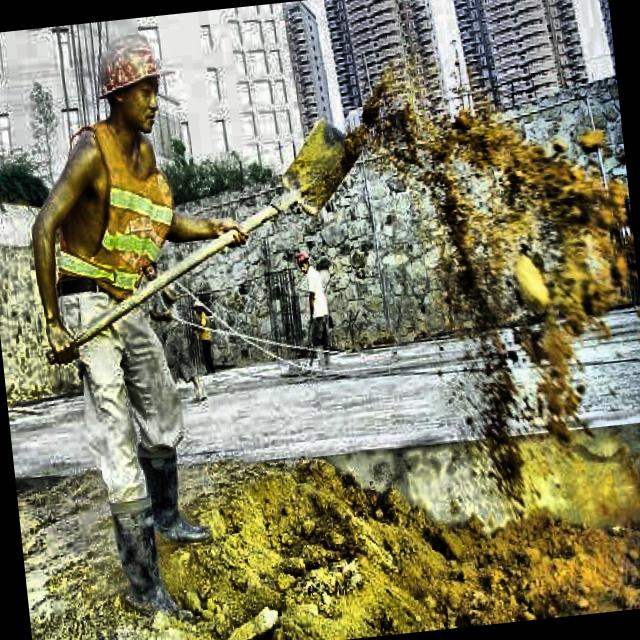helmet: (90, 29, 176, 141), (292, 248, 313, 278)
